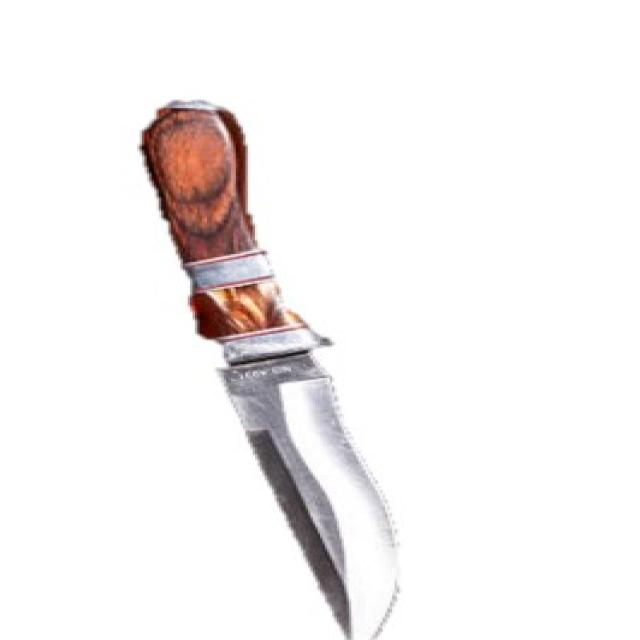knife: (133, 87, 446, 640)
